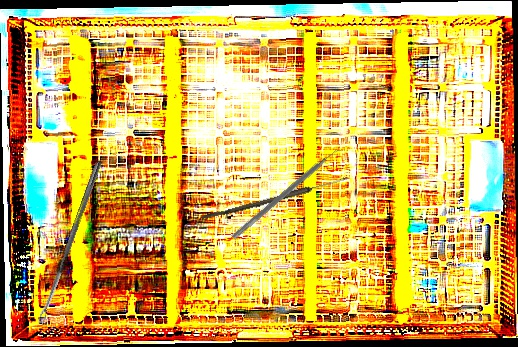Spatula Surgical: (231, 143, 345, 245)
Surgical Spoon: (36, 159, 103, 324), (200, 174, 351, 223)
